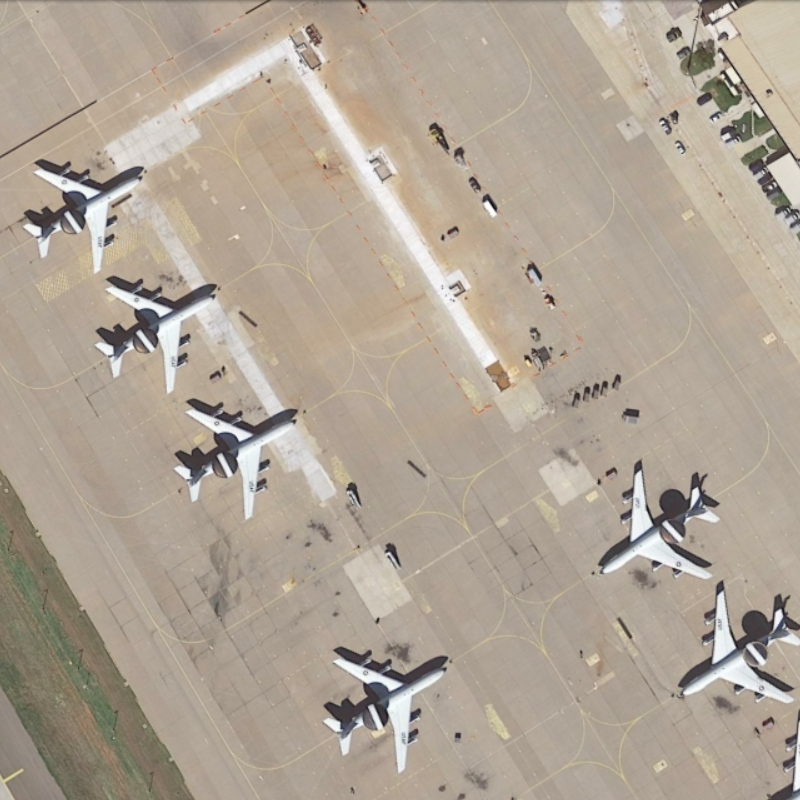A7: (318, 649, 457, 781), (167, 397, 307, 523), (664, 584, 800, 708), (597, 461, 725, 591), (85, 282, 222, 400), (18, 161, 150, 272)
